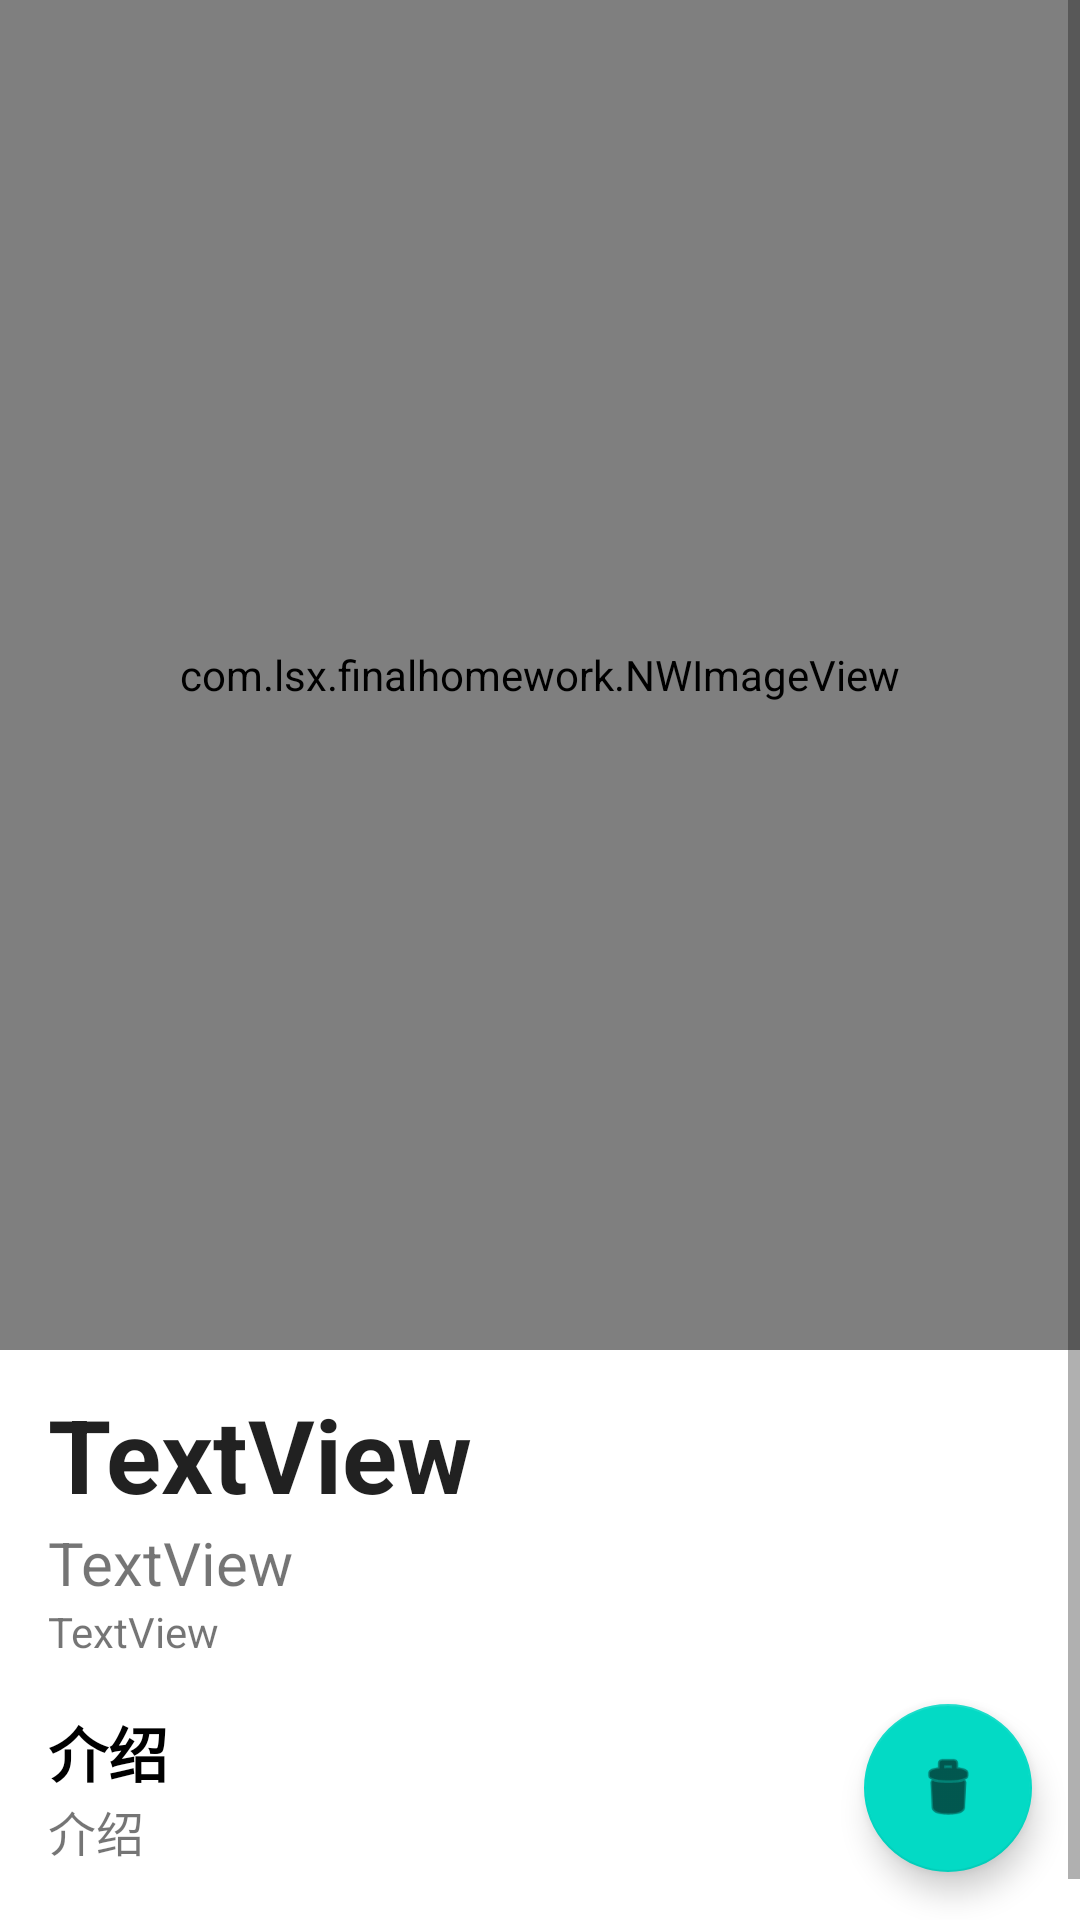

Screen size 1080px x 1920px. Icon name, then its center in pixels as (x,y):
delete: (948,1788)
